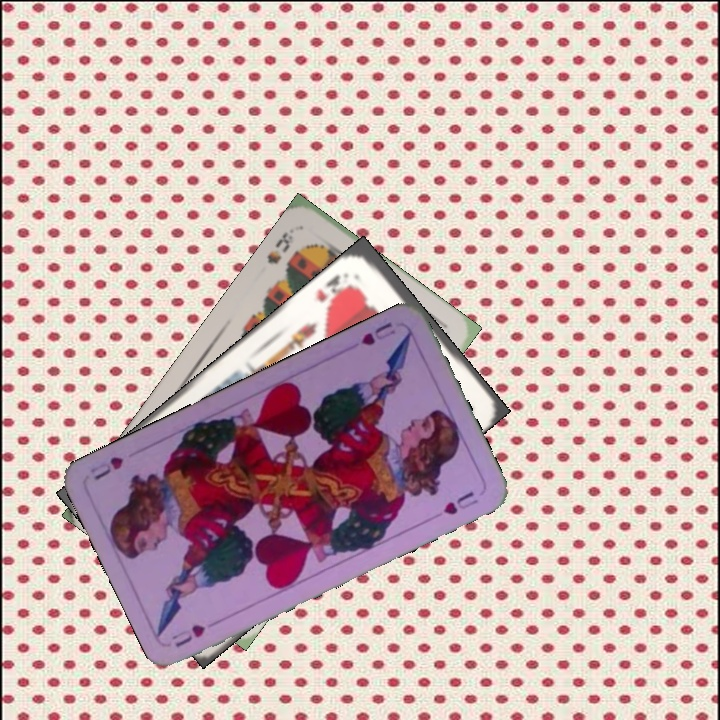HK: (312, 268, 356, 311)
HU: (356, 317, 398, 348), (168, 620, 208, 650)
S8: (263, 223, 304, 267)
